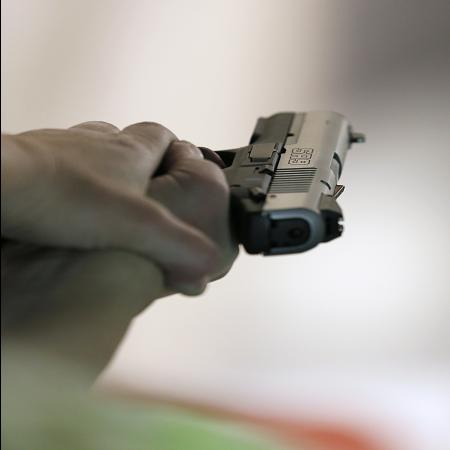Pistol: (128, 103, 375, 261)
